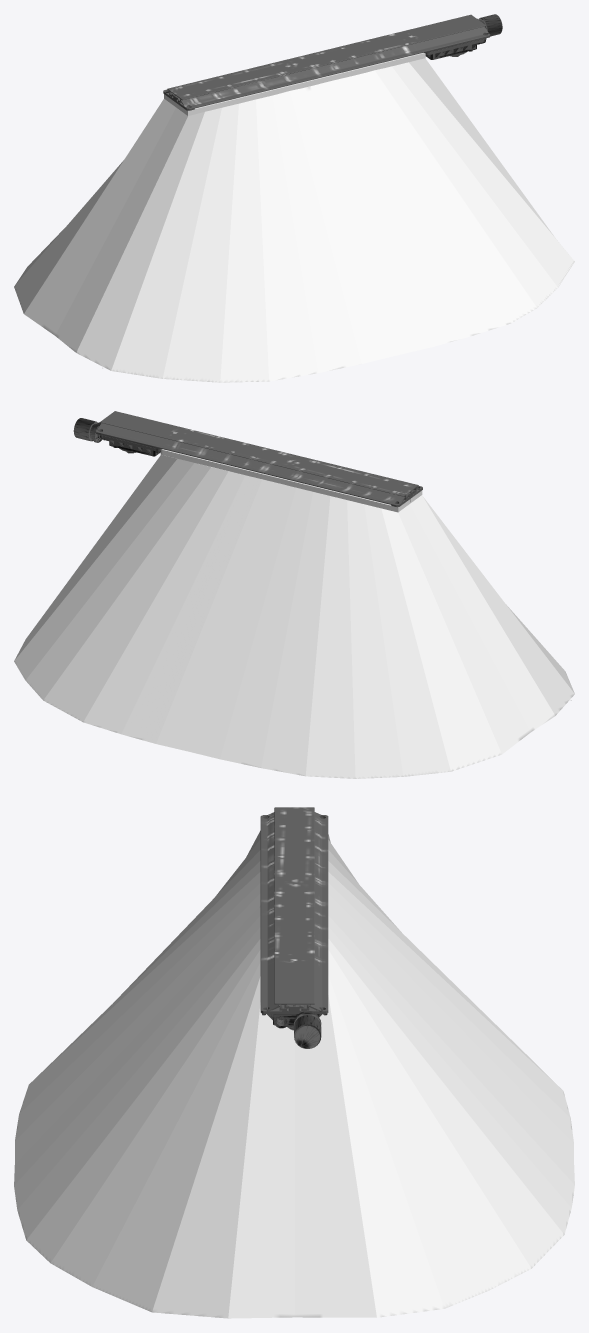
File: zpla_with_cube.obj
3 renders of one model, top to bottom at view 1: azimuth 30°, elevation 25°; view 2: azimuth 150°, elevation 25°; view 3: azimuth 270°, elevation 25°, orthographic. The views are drawn at different scales.
Visible parts, largest first — view 1: Cylinder, ZPL4_UNV1_S891, Cube_Cube.001; view 2: Cylinder, ZPL4_UNV1_S891, Cube_Cube.001; view 3: Cylinder, ZPL4_UNV1_S891.
Part boxes in pixels (bbox=[...]): Cylinder: bbox=[14, 58, 574, 382]; ZPL4_UNV1_S891: bbox=[163, 14, 502, 110]; Cube_Cube.001: bbox=[164, 53, 425, 115]; Cylinder: bbox=[14, 454, 574, 778]; ZPL4_UNV1_S891: bbox=[73, 411, 422, 507]; Cube_Cube.001: bbox=[160, 449, 422, 512]; Cylinder: bbox=[14, 830, 574, 1318]; ZPL4_UNV1_S891: bbox=[260, 807, 328, 1048].
Bounding box in the file's own units: 70.07 × 29.96 × 53.88.
4 materials, 3 textured.
